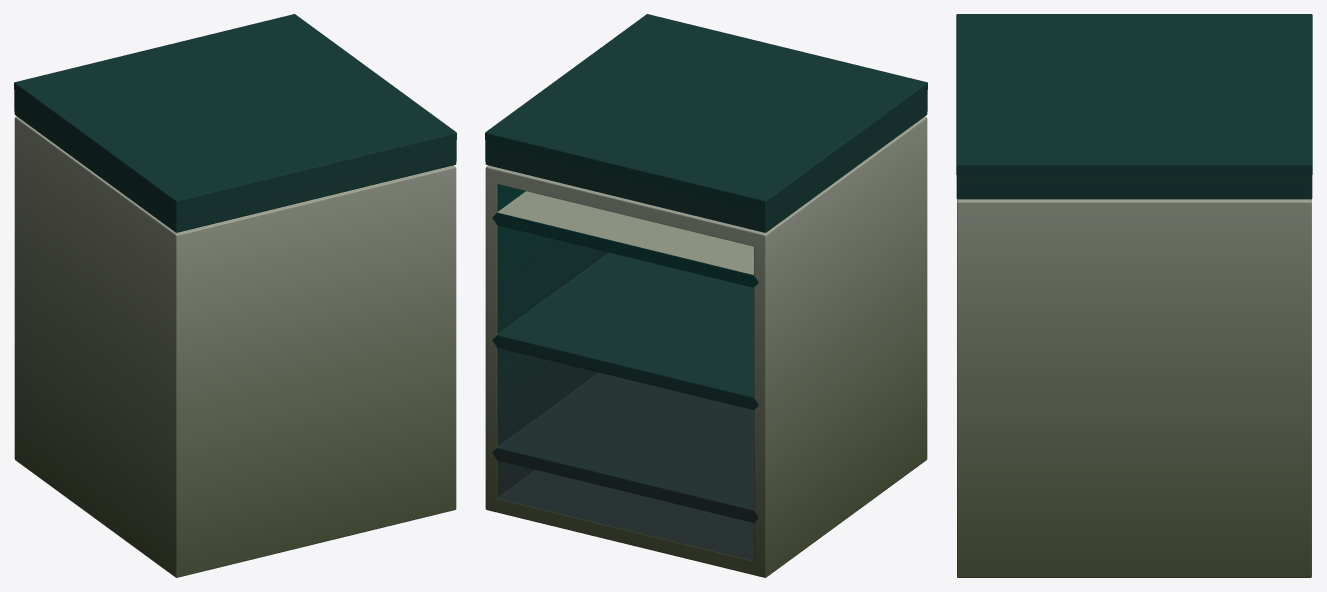
Rendered from CabinetPantry.fbx.
The picture shows the model from 3 angles, left to right: view 1: azimuth 30°, elevation 25°; view 2: azimuth 150°, elevation 25°; view 3: azimuth 270°, elevation 25°; orthographic projection. The views are drawn at different scales.
Visible parts, largest first — view 1: Pantry; view 2: Pantry; view 3: Pantry.
Boxes of the visible parts, bbox=[...] form: Pantry: bbox=[14, 14, 456, 577]; Pantry: bbox=[485, 14, 927, 577]; Pantry: bbox=[956, 14, 1312, 577].
Bounding box in the file's own units: 201 × 258 × 201.
